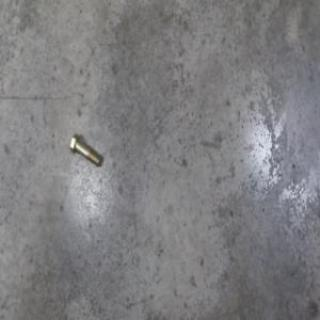Bolttrack_idkeyframe: (70, 132, 102, 168)
